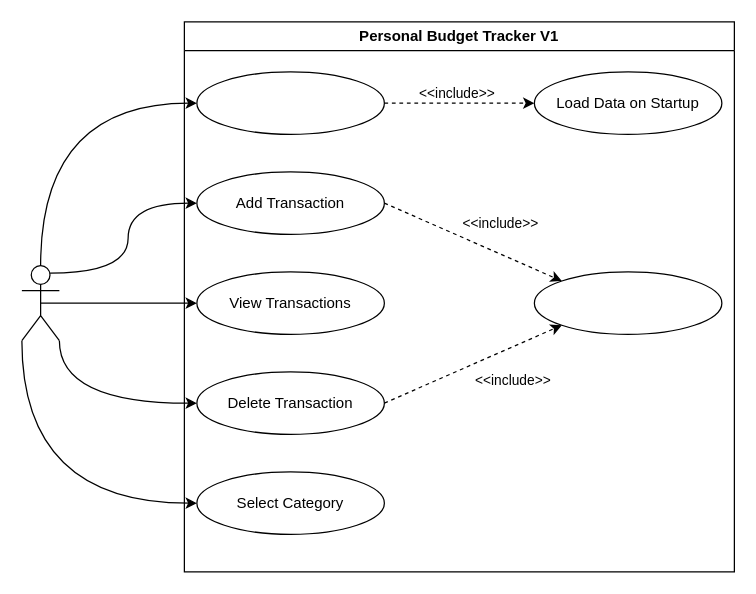
Some shapes in this 756 by 594 pixel diagram are drawn without their labels. Here are the shapes that lost their labels. From the top down, the centre of each, then its label:
At point (290, 102): "Start Application".
At point (40, 302): "Actor".
At point (627, 302): "Save Data".
